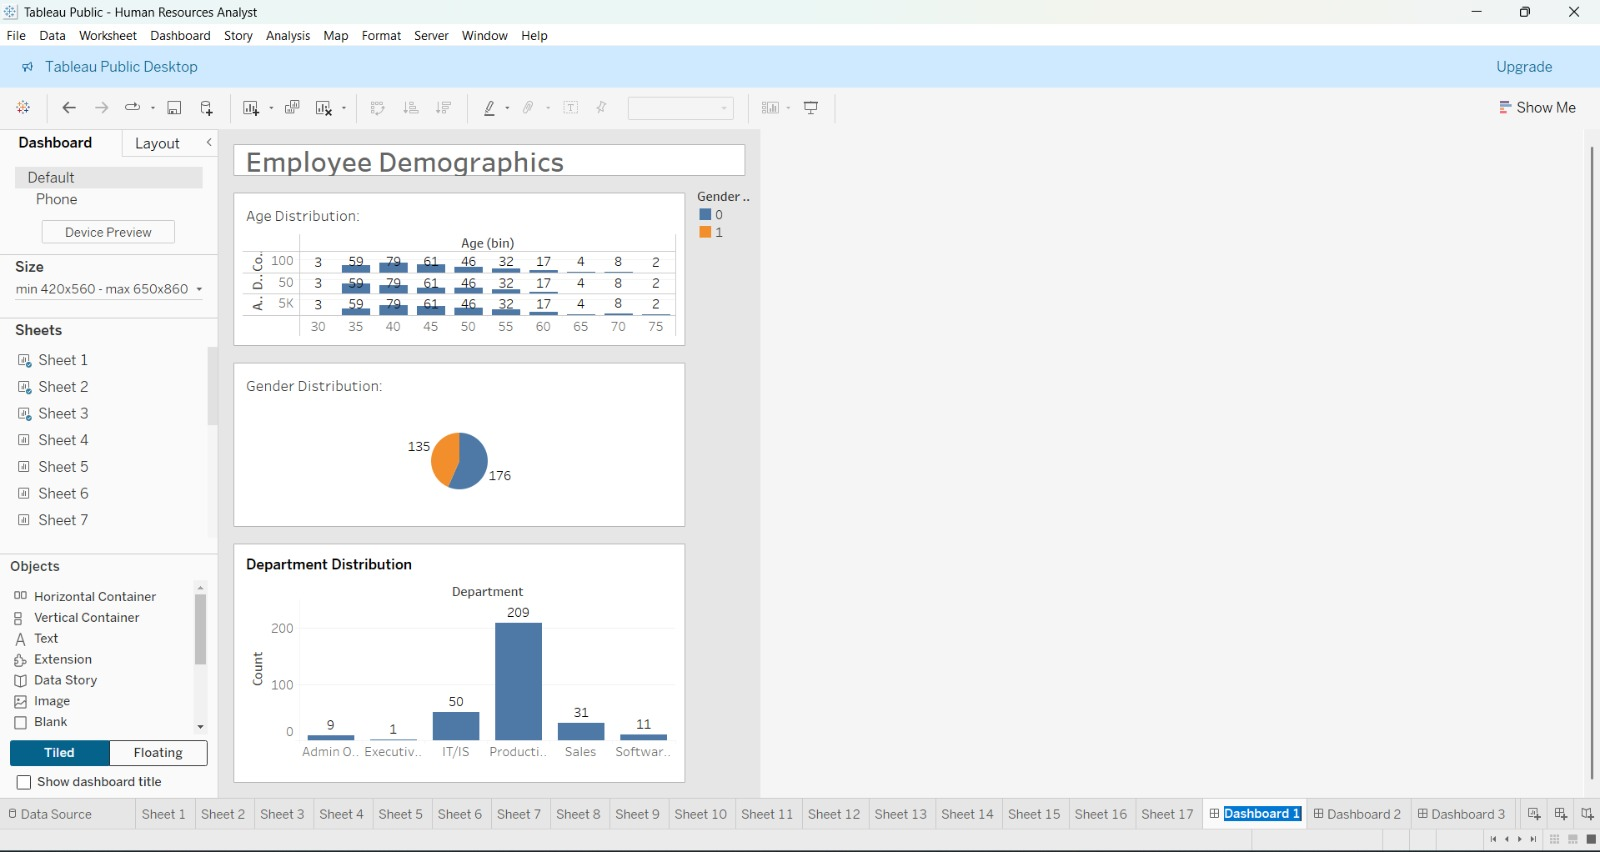

What the dashboard file says about the page in this screenshot:
{"tool":"tableau","page":{"name":"Dashboard 1","canvas":[650,860],"ordinal":0},"visuals":[{"type":"text","box":[8,8.6,634,62.5]},{"type":"worksheet","title":"Sheet 1","mark":"Automatic","rows":["Calculation_1635651135752892417"],"cols":["Age (bin)"],"box":[8,71.1,562,218.6]},{"type":"legend","title":"Sheet 2","param":"[federated.07k9ytm0tm6ueu12ytl1b1n85au6].[none:GenderID:ok]","box":[570,71.1,72,77.2]},{"type":"worksheet","title":"Sheet 2","mark":"Pie","box":[8,289.7,562,232.9]},{"type":"worksheet","title":"Sheet 3","mark":"Automatic","rows":["Calculation_1635651135752892417"],"cols":["Department"],"box":[8,522.6,562,328.8]}]}

Visuals, with their boxes on the page's 650x860 design canvas (x1, y1, x2, y2). These are canvas units, not pixel positions in the 1600x852 screenshot, which may show the page scaled, cropped or inside an application window:
text: [left=8, top=9, right=642, bottom=71]
"Sheet 1" worksheet: [left=8, top=71, right=570, bottom=290]
"Sheet 2" legend: [left=570, top=71, right=642, bottom=148]
"Sheet 2" worksheet (Pie marks): [left=8, top=290, right=570, bottom=523]
"Sheet 3" worksheet: [left=8, top=523, right=570, bottom=851]
